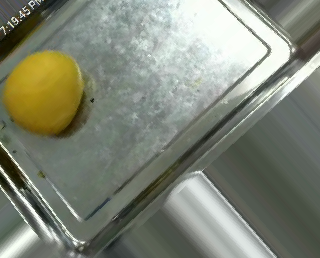Mango: (0, 47, 87, 136)
